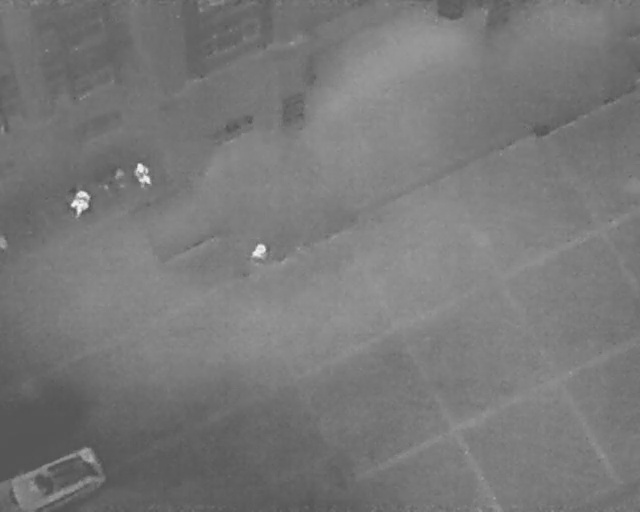Bicycle: (110, 167, 129, 191)
Car: (0, 444, 106, 510)
Person: (131, 160, 156, 190), (70, 191, 90, 216), (249, 241, 268, 261)
